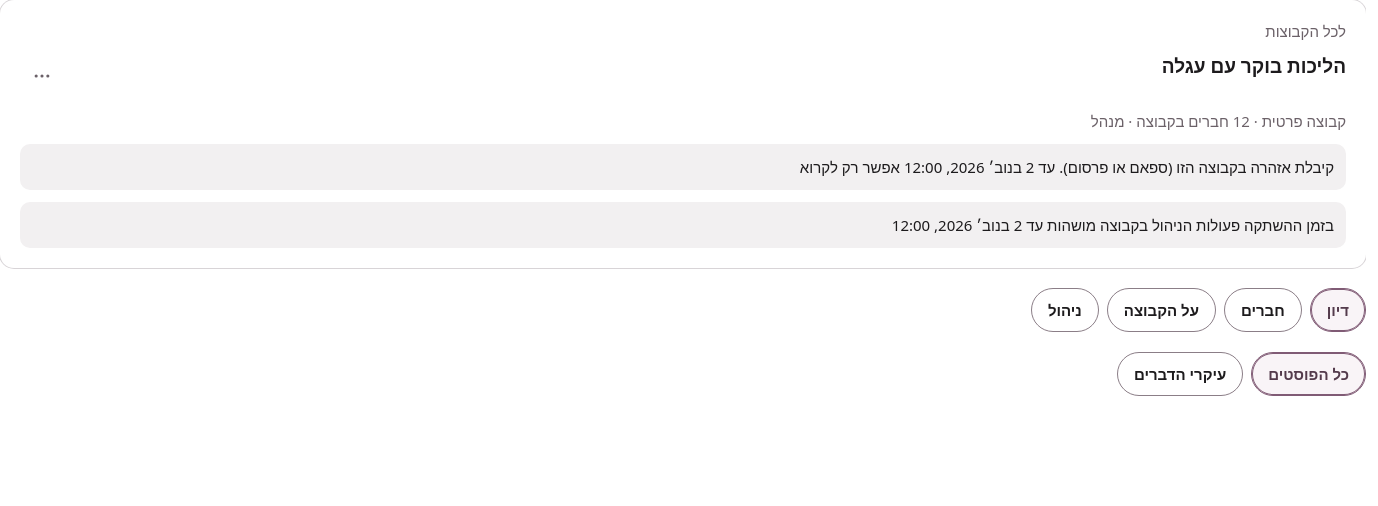
[FR-GRP-003 OP-070 AC-185 PG-035] a muted Group manager › [AC-185] the members list offers no action on anyone
The image size is (1378, 506).
Click the tab "חברים" at (1263, 310), box [1224,288,1302,332]
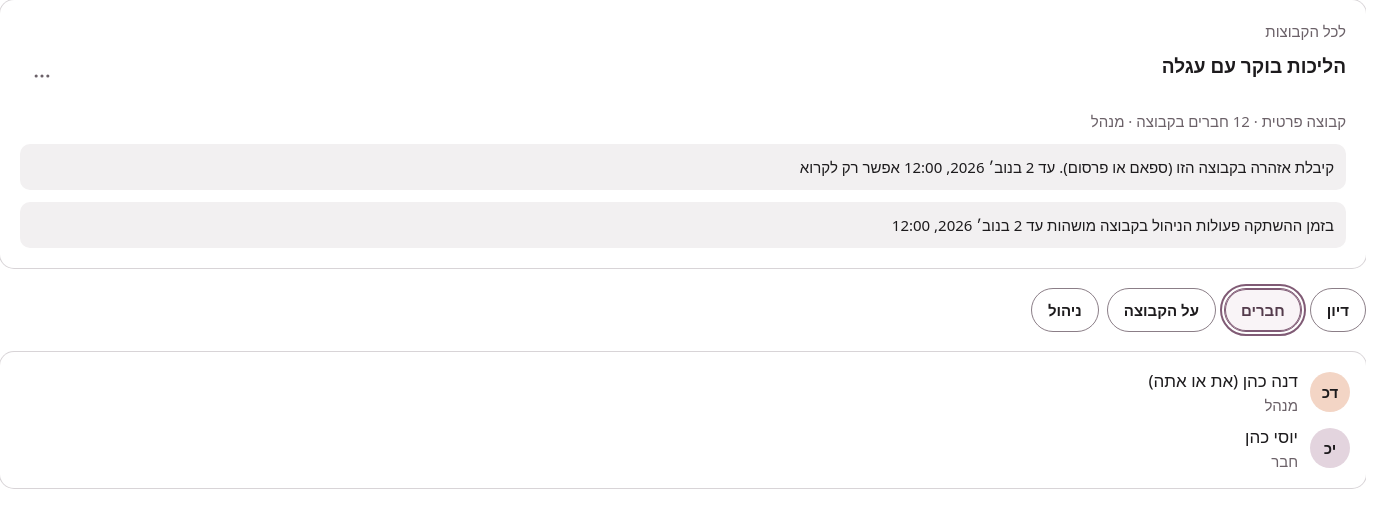
Result: the text "יוסי כהן" is shown at [1245,424,1298,450]
